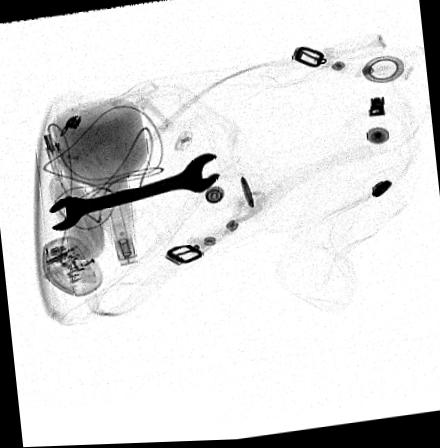Wrench: (48, 152, 222, 230)
